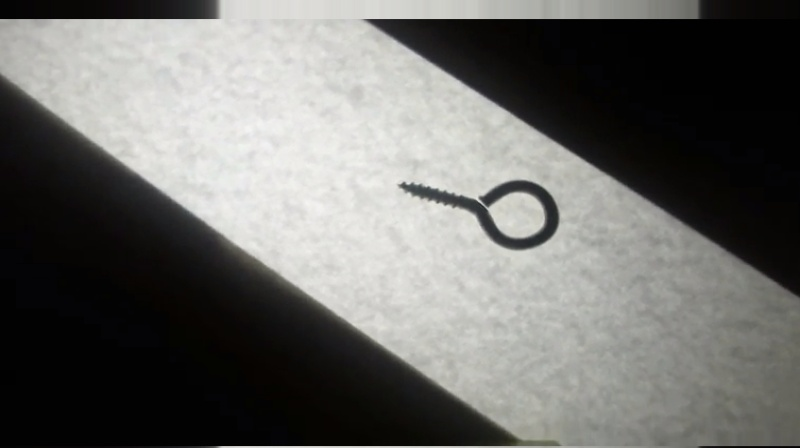O001: (395, 177, 563, 253)
